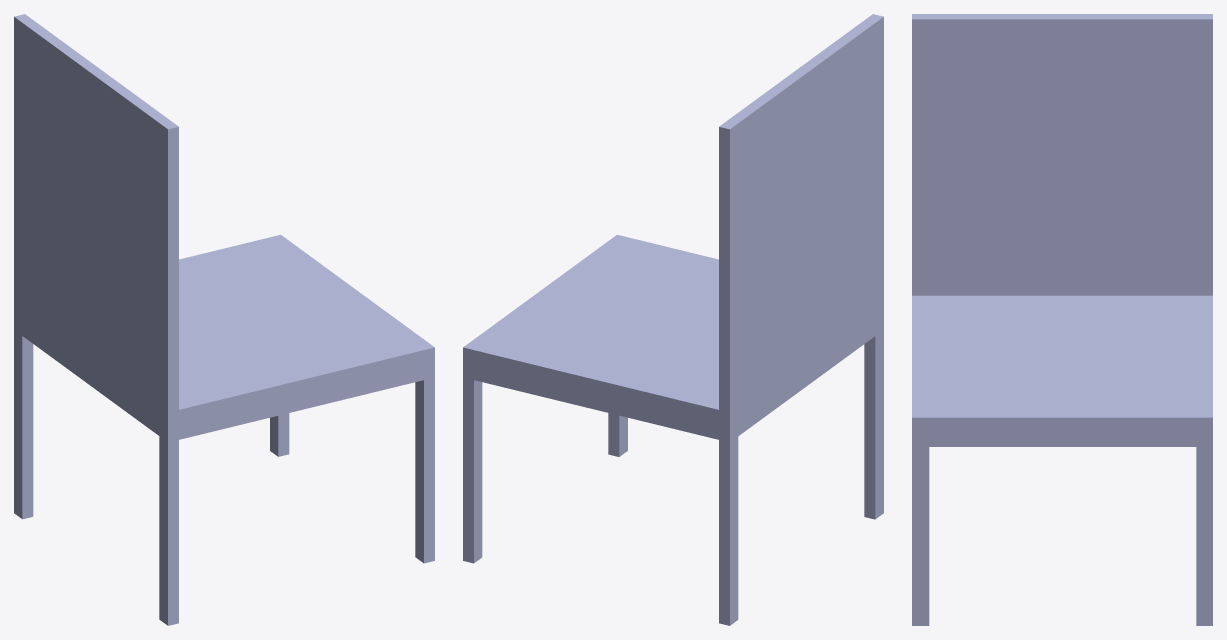
The model's file is chair.fbx.
The picture shows the model from 3 angles, left to right: view 1: azimuth 30°, elevation 25°; view 2: azimuth 150°, elevation 25°; view 3: azimuth 270°, elevation 25°; orthographic projection. The views are drawn at different scales.
Visible parts, largest first — view 1: Cube; view 2: Cube; view 3: Cube.
Boxes of the visible parts, box(x1,y1,x2,y2) form: Cube: box(14, 14, 434, 625); Cube: box(463, 14, 883, 625); Cube: box(912, 14, 1212, 625).
Size of the model in its own units: 200 by 356 by 200.
